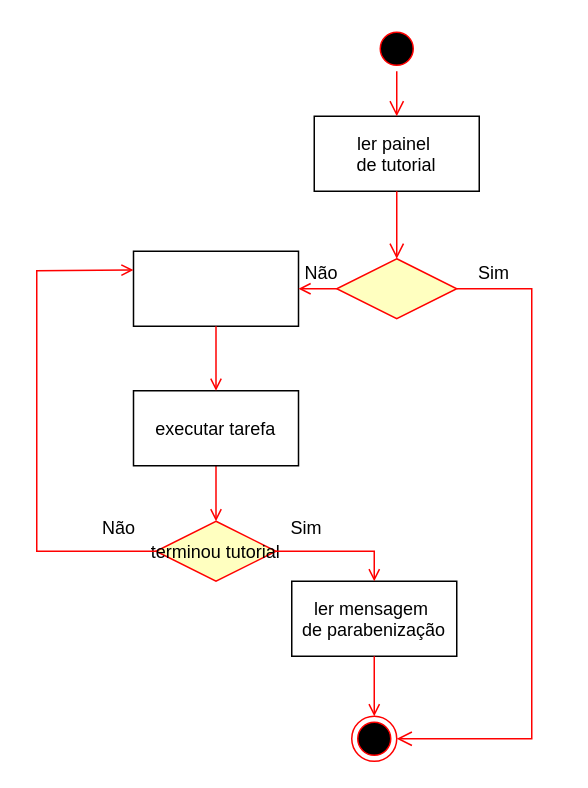
Some shapes in this 588 by 788 pixel diagram are drawn without their labels. The shapes that lost their labels are listed below. From the top down, each one's centre as x and y in pixels, then its label:
(215,288): ler etapa tutorial
(396,288): pular tutorial
